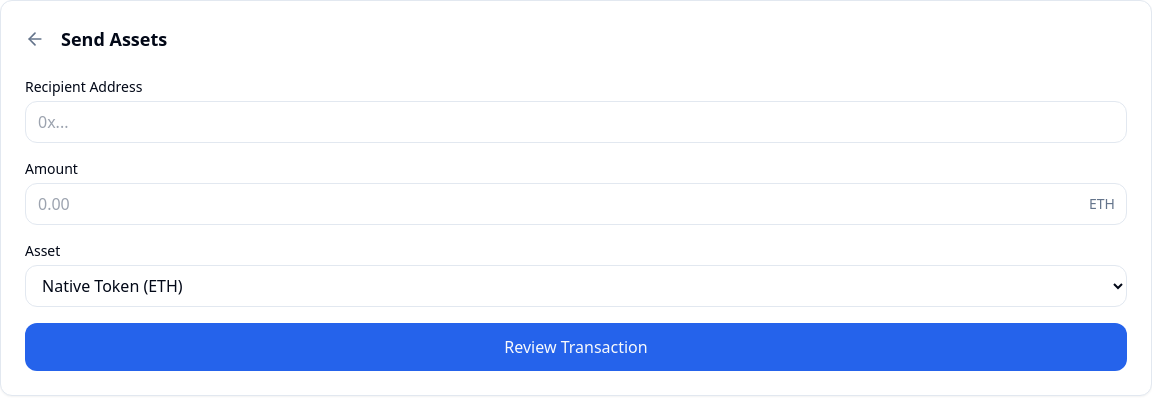
Scenario: TransferForm › should display selected token symbol in amount input
The width and height of the screenshot is (1152, 413).
Expected: the text "ETH" is shown, [1089,194,1115,214]
# Select USDC
Select "USDC - USD Coin" in the dropdown at (576, 286), box [25,265,1127,307]
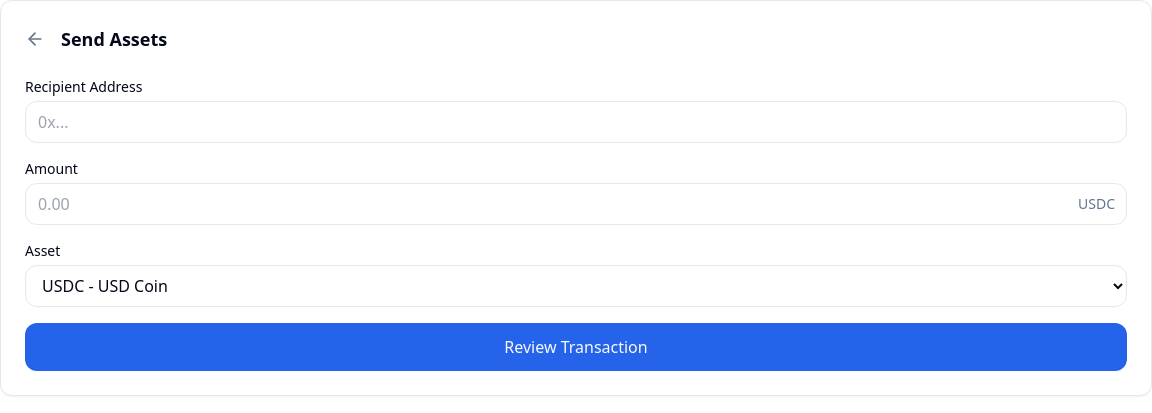
Now the text "USDC" is shown, box [1078,194,1115,214]
